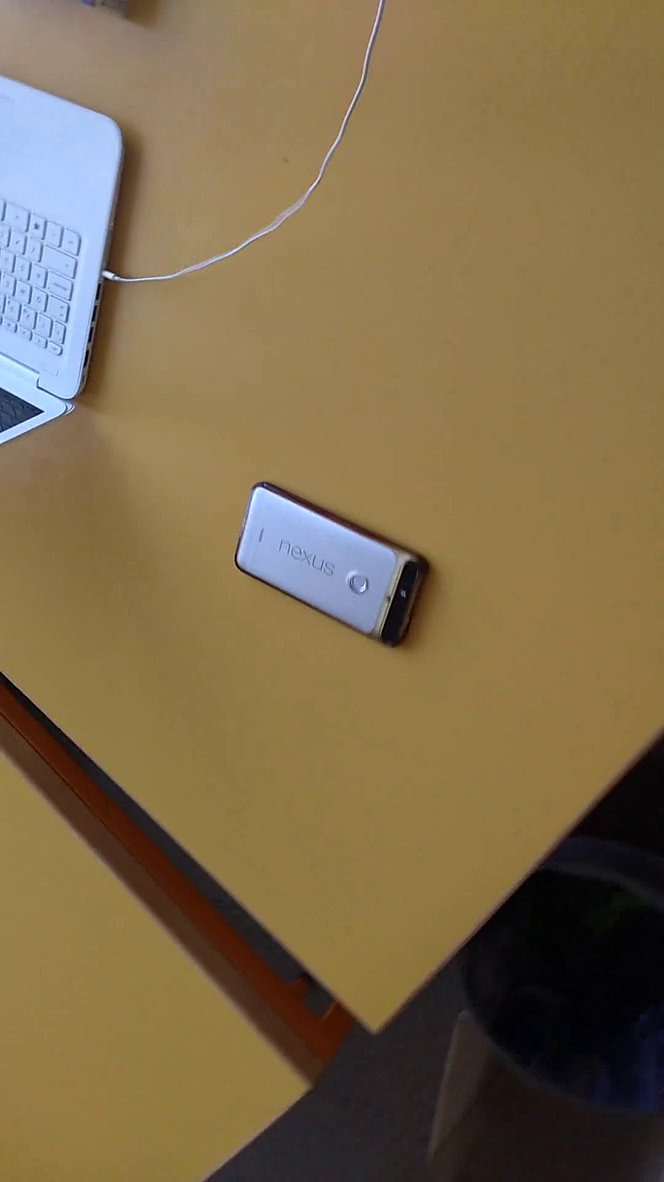phone: (224, 467, 458, 685)
